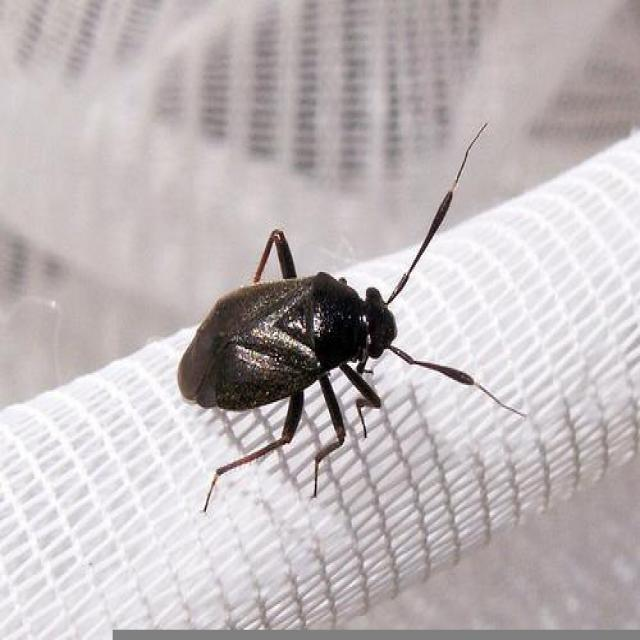Miridae-Adult-: (136, 111, 546, 528)
